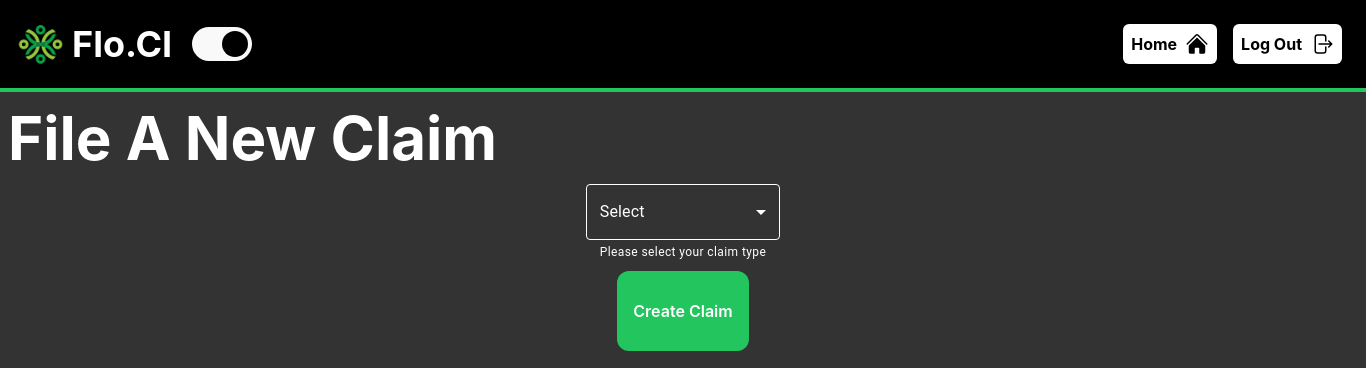
Selects a claim type from dropdown
This screenshot has width=1366, height=368.
Press the mouse on the dropdown named "Select" at (683, 212), box [586,184,780,240]
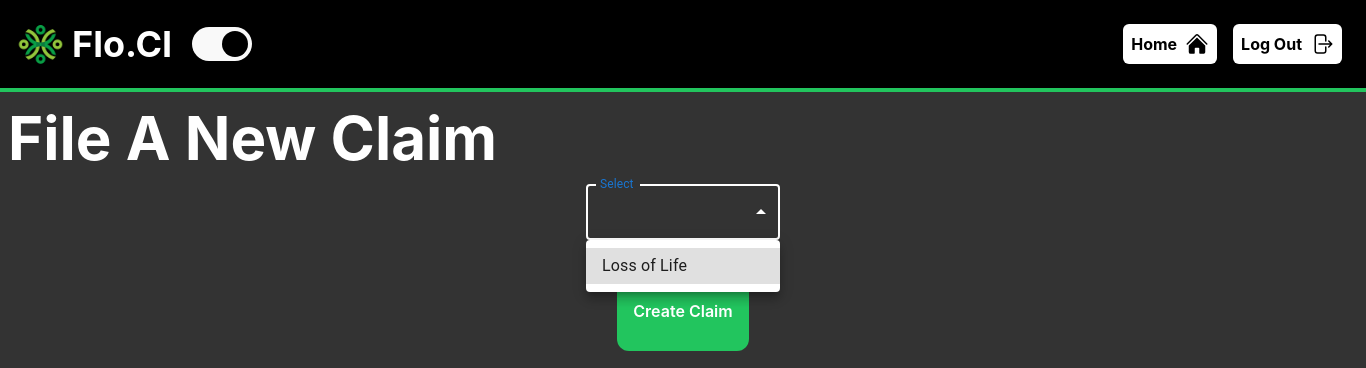
Click the option "Loss of Life" at (683, 266), box [586,248,780,284]
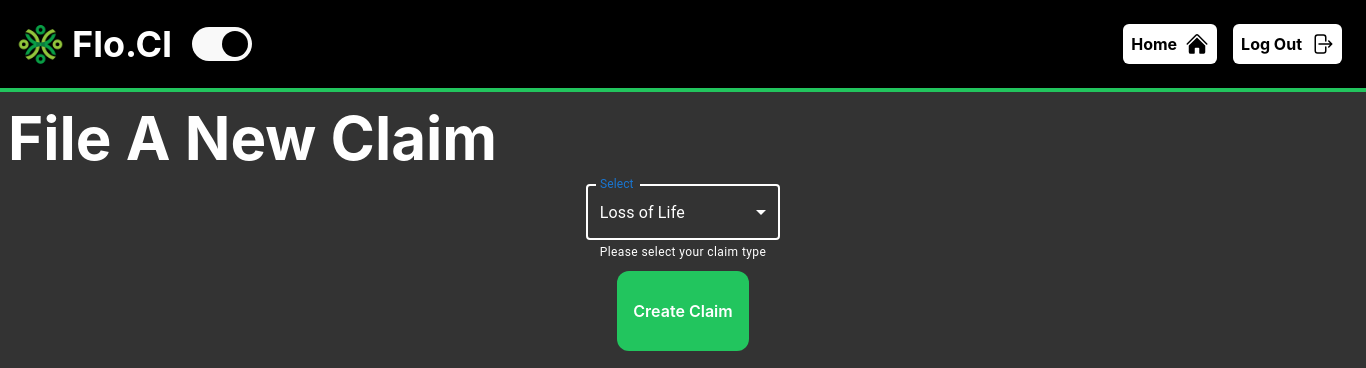
Expected: the dropdown labelled "Loss of Life" is shown, [600,202,685,222]
